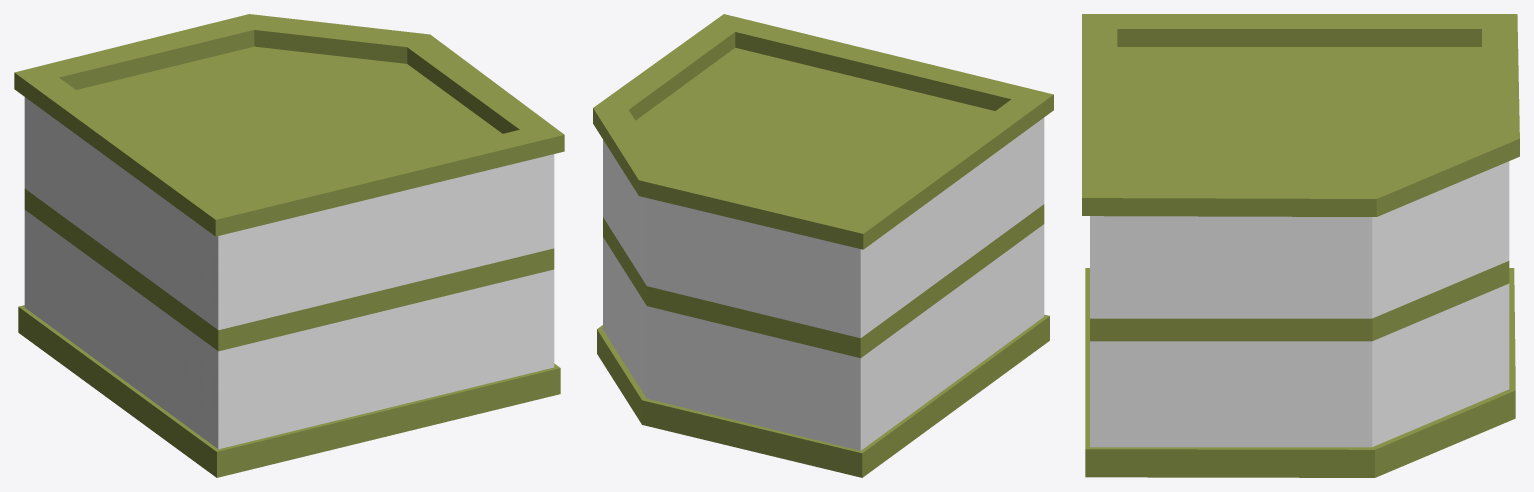
Rendered from Map-Shop-Lv2-G.fbx.
3 renders of one model, left to right at view 1: azimuth 30°, elevation 25°; view 2: azimuth 150°, elevation 25°; view 3: azimuth 270°, elevation 25°, orthographic. The views are drawn at different scales.
Visible parts, largest first — view 1: Map-Shop-Lv2-G; view 2: Map-Shop-Lv2-G; view 3: Map-Shop-Lv2-G.
Part boxes in pixels (left/top/right/bottom): Map-Shop-Lv2-G: left=14, top=14, right=564, bottom=477; Map-Shop-Lv2-G: left=593, top=14, right=1053, bottom=477; Map-Shop-Lv2-G: left=1082, top=14, right=1519, bottom=477.
Bounding box in the file's own units: 2.09 × 1.48 × 2.09.
